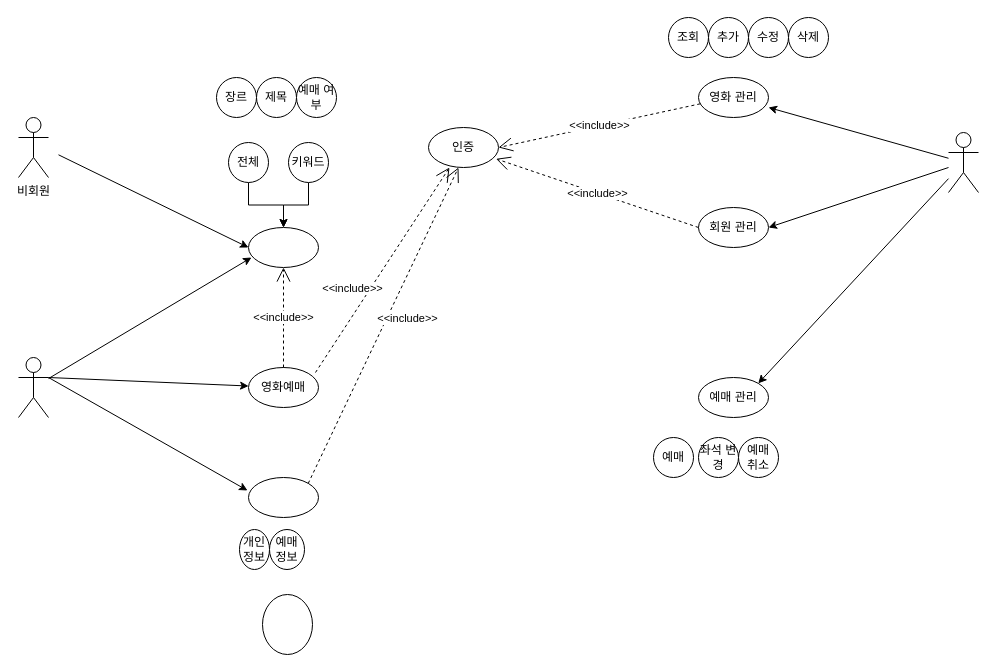
Image size: 997x672. Some labels were removed from this diagram. The centre of each missing label's shape, as x and y in pixels:
"나의정보" belongs at (283,497).
"매니저" belongs at (963,162).
"메시지 확인" belongs at (287,624).
"영화 조회" belongs at (283,247).
"회원" belongs at (33,387).
